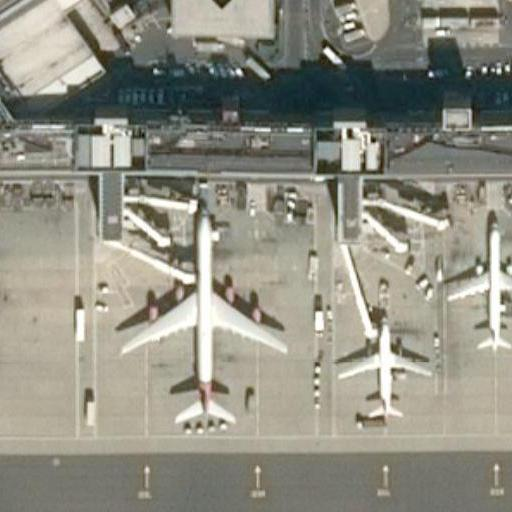Aircraft: (114, 213, 293, 430), (330, 315, 429, 421), (440, 216, 512, 351)
